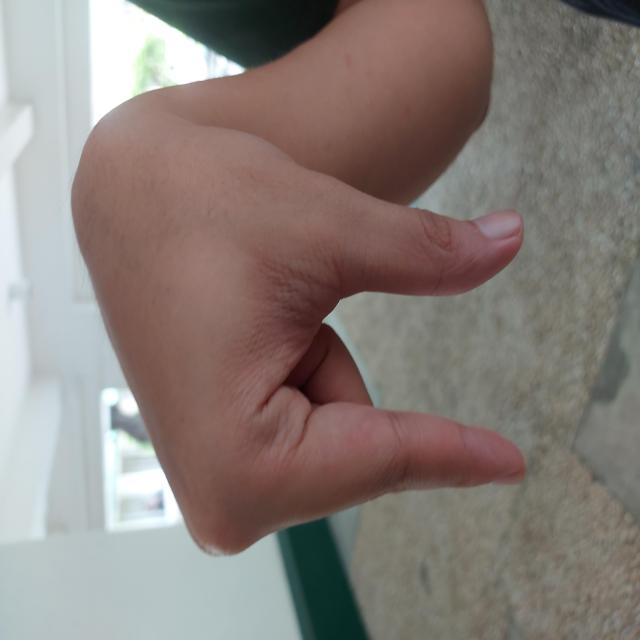Q: (85, 68, 522, 527)
